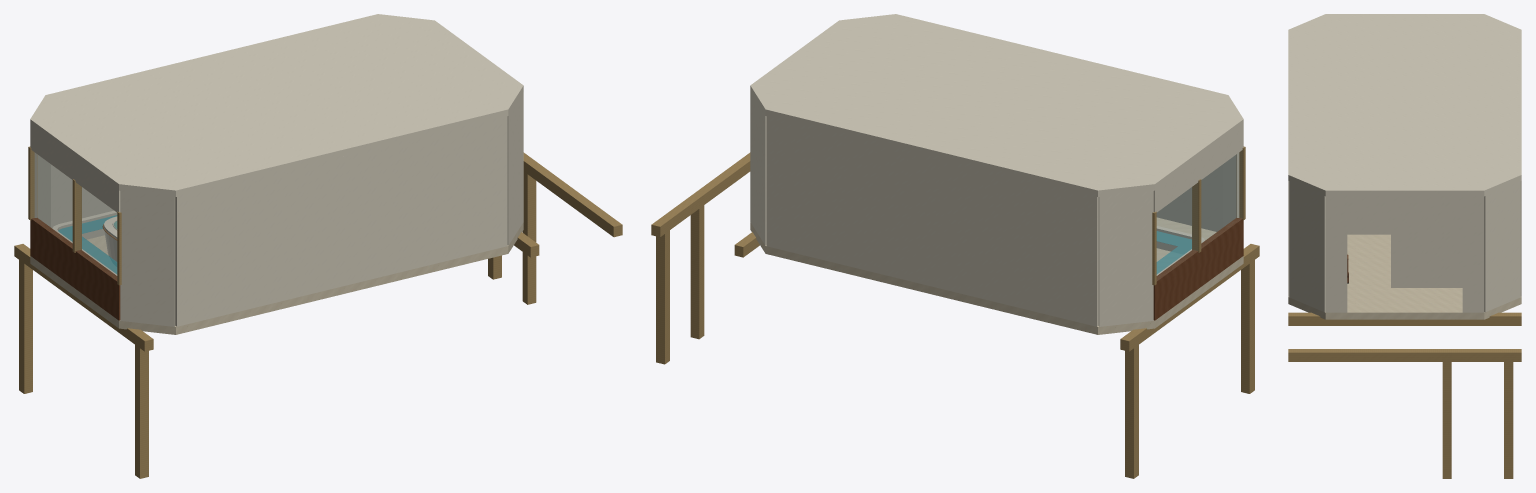
The model's file is D04_STARBOARD_FORWARD_HOME_967_r001.glb.
3 renders of one model, left to right at view 1: azimuth 30°, elevation 25°; view 2: azimuth 150°, elevation 25°; view 3: azimuth 270°, elevation 25°, orthographic. The views are drawn at different scales.
Visible parts, largest first — view 1: D04SH967_Roof, D04SH967_Shell_3, D04SH967_Shell_4, D04SH967_GardenGlass, D04SH967_Floor, D04SH967_GardenDado, D04SH967_Shell_2, D04SH967_GardenHead, D04SH967_Pier_16, D04SH967_ClearSupportLong, D04SH967_Pier_15, D04SH967_Pier_14 (+5 smaller); view 2: D04SH967_Roof, D04SH967_Shell_7, D04SH967_Shell_6, D04SH967_Floor, D04SH967_GardenGlass, D04SH967_GardenDado, D04SH967_Shell_0, D04SH967_GardenHead, D04SH967_Shell_3, D04SH967_Pier_14, D04SH967_Pier_15, D04SH967_Pier_13 (+6 smaller); view 3: D04SH967_Roof, D04SH967_Floor, D04SH967_EntryHeader, D04SH967_Shell_0, D04SH967_Shell_2, D04SH967_BathDogleg, D04SH967_ClearSupportLong, D04SH967_EntryWall_0, D04SH967_EntryWall_1, D04SH967_Long_-41.650000000000006, D04SH967_Pier_14, D04SH967_Pier_13.
Part boxes in pixels (x1=…): D04SH967_Roof: x1=30, y1=14, x2=523, y2=196; D04SH967_Shell_3: x1=175, y1=116, x2=507, y2=326; D04SH967_Shell_4: x1=120, y1=191, x2=175, y2=326; D04SH967_GardenGlass: x1=33, y1=155, x2=116, y2=279; D04SH967_Floor: x1=30, y1=222, x2=523, y2=334; D04SH967_GardenDado: x1=30, y1=217, x2=120, y2=320; D04SH967_Shell_2: x1=507, y1=93, x2=523, y2=245; D04SH967_GardenHead: x1=30, y1=126, x2=120, y2=212; D04SH967_Pier_16: x1=135, y1=332, x2=148, y2=478; D04SH967_ClearSupportLong: x1=523, y1=152, x2=622, y2=237; D04SH967_Pier_15: x1=19, y1=247, x2=32, y2=393; D04SH967_Pier_14: x1=522, y1=158, x2=536, y2=304; D04SH967_Roof: x1=750, y1=14, x2=1243, y2=196; D04SH967_Shell_7: x1=766, y1=116, x2=1098, y2=326; D04SH967_Shell_6: x1=1098, y1=191, x2=1153, y2=326; D04SH967_Floor: x1=750, y1=217, x2=1243, y2=334; D04SH967_GardenGlass: x1=1157, y1=155, x2=1241, y2=280; D04SH967_GardenDado: x1=1153, y1=217, x2=1243, y2=320; D04SH967_Shell_0: x1=750, y1=93, x2=766, y2=245; D04SH967_GardenHead: x1=1153, y1=126, x2=1243, y2=212; D04SH967_Shell_3: x1=1156, y1=164, x2=1222, y2=231; D04SH967_Pier_14: x1=690, y1=192, x2=704, y2=339; D04SH967_Pier_15: x1=1125, y1=332, x2=1138, y2=478; D04SH967_Pier_13: x1=656, y1=218, x2=669, y2=364; D04SH967_Roof: x1=1288, y1=14, x2=1521, y2=196; D04SH967_Floor: x1=1288, y1=234, x2=1521, y2=319; D04SH967_EntryHeader: x1=1347, y1=196, x2=1462, y2=234; D04SH967_Shell_0: x1=1484, y1=181, x2=1520, y2=312; D04SH967_Shell_2: x1=1289, y1=181, x2=1325, y2=312; D04SH967_BathDogleg: x1=1391, y1=234, x2=1462, y2=287; D04SH967_ClearSupportLong: x1=1288, y1=349, x2=1521, y2=361; D04SH967_EntryWall_0: x1=1462, y1=196, x2=1484, y2=312; D04SH967_EntryWall_1: x1=1325, y1=196, x2=1347, y2=312; D04SH967_Long_-41.650000000000006: x1=1288, y1=312, x2=1521, y2=325; D04SH967_Pier_14: x1=1442, y1=349, x2=1451, y2=478; D04SH967_Pier_13: x1=1504, y1=349, x2=1513, y2=478.
Bounding box in the file's own units: 15.41 × 8.66 × 7.2.
Materials: 40 (21 with a texture image).
